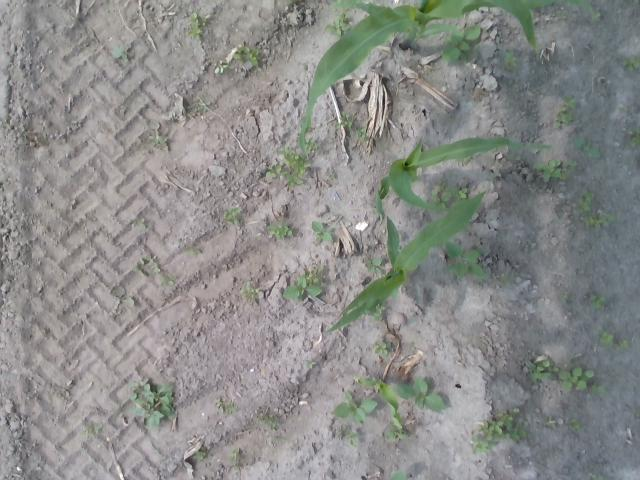Maize: (298, 0, 602, 152), (324, 169, 499, 334), (370, 136, 556, 224), (352, 375, 402, 431), (384, 469, 408, 480)
Weeds: (130, 376, 177, 430), (396, 377, 446, 411), (480, 407, 528, 442), (330, 390, 378, 424), (444, 239, 484, 278), (442, 24, 482, 62), (130, 255, 174, 286), (282, 266, 322, 300), (431, 180, 468, 211), (559, 358, 594, 390), (533, 158, 578, 182), (276, 145, 311, 175), (527, 352, 559, 383), (552, 96, 577, 129), (266, 165, 304, 186), (580, 210, 616, 229), (186, 12, 210, 39), (234, 44, 260, 68), (110, 284, 134, 308), (325, 11, 349, 35), (575, 138, 603, 158), (311, 220, 334, 244), (252, 413, 280, 431), (471, 436, 496, 456), (146, 122, 166, 147), (576, 188, 594, 214), (338, 426, 360, 446), (266, 222, 292, 238), (214, 397, 237, 415), (335, 110, 354, 130), (366, 303, 386, 322), (386, 424, 407, 442), (224, 207, 243, 225), (191, 95, 210, 113), (364, 257, 384, 274), (240, 281, 258, 299), (502, 50, 518, 70), (622, 54, 640, 71), (589, 292, 606, 309), (110, 43, 128, 59), (374, 340, 391, 356), (598, 330, 614, 346), (588, 382, 606, 395), (355, 126, 369, 142), (228, 448, 242, 464), (629, 128, 640, 148), (84, 423, 102, 435), (214, 60, 228, 74), (304, 136, 317, 151), (130, 217, 146, 229), (498, 274, 514, 286), (568, 418, 582, 431), (618, 339, 630, 350), (192, 450, 204, 461), (303, 360, 316, 368), (548, 416, 556, 427), (592, 473, 604, 480), (557, 11, 567, 19), (591, 12, 601, 20), (446, 116, 456, 124), (505, 153, 516, 160), (185, 246, 194, 254), (329, 171, 337, 180), (458, 158, 470, 163), (560, 294, 568, 301), (620, 107, 630, 112)
